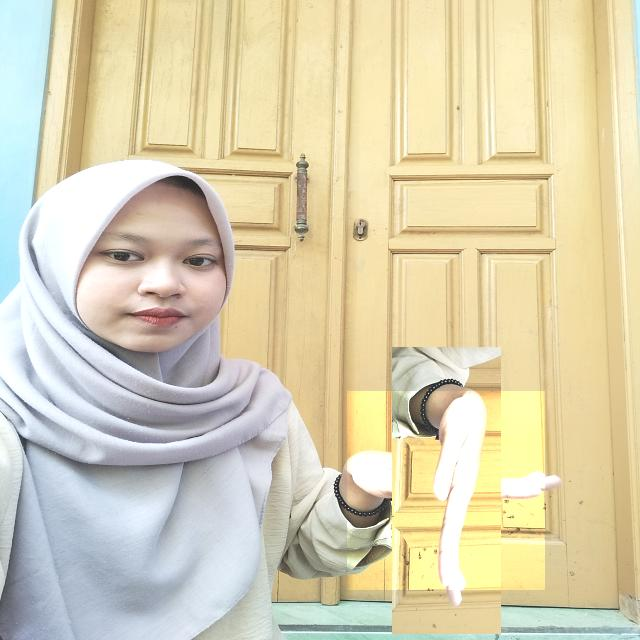adik: (347, 391, 545, 590)
